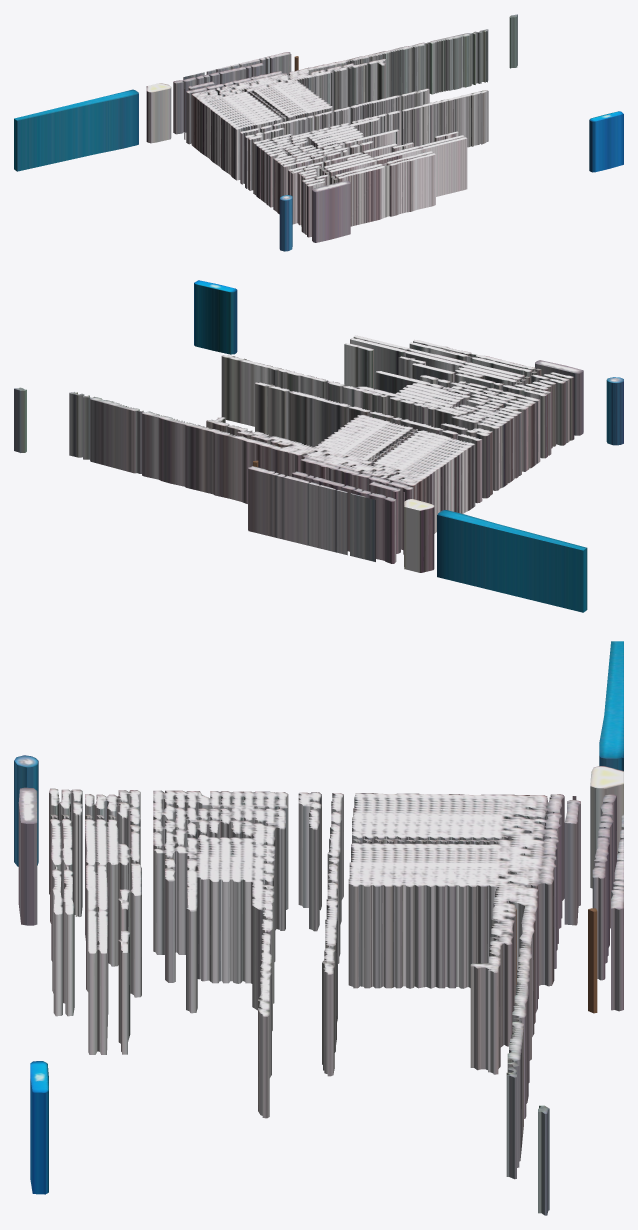
File: Builder20220303225441.glb
3 renders of one model, top to bottom at view 1: azimuth 30°, elevation 25°; view 2: azimuth 150°, elevation 25°; view 3: azimuth 270°, elevation 25°, orthographic. The views are drawn at different scales.
Bounding box in the file's own units: 0.2446 × 0.0245 × 0.1333.
1 material, 1 textured.
